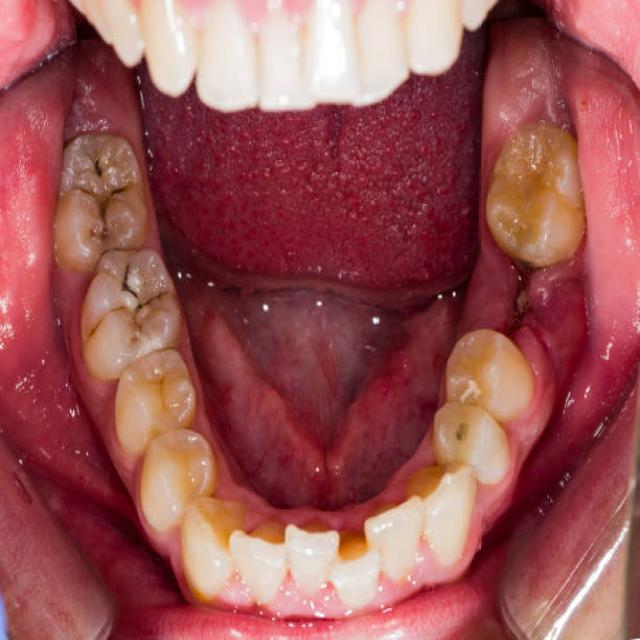caries: (134, 286, 177, 318), (100, 180, 134, 207), (115, 253, 135, 295), (87, 147, 106, 179)
